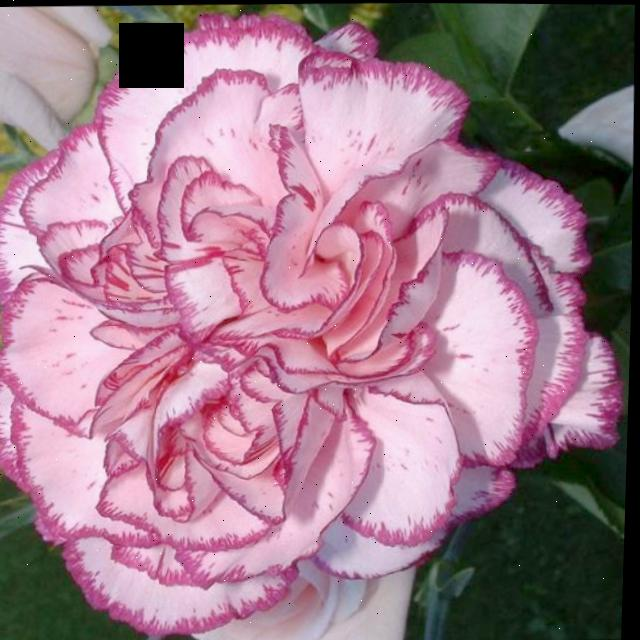carnation: (0, 3, 620, 631)
